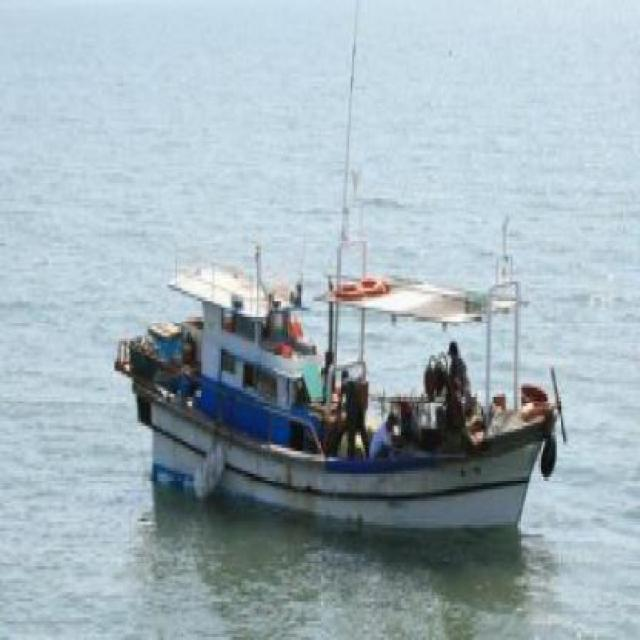Ship: (108, 203, 571, 551)
